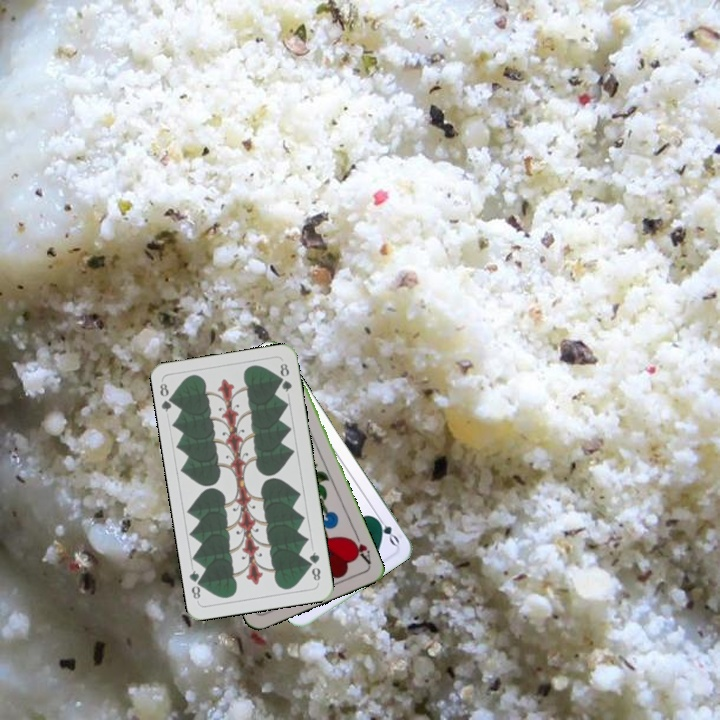G8: (156, 379, 178, 414), (305, 548, 323, 583)
GO: (370, 511, 402, 548)
HA: (346, 528, 374, 567)
